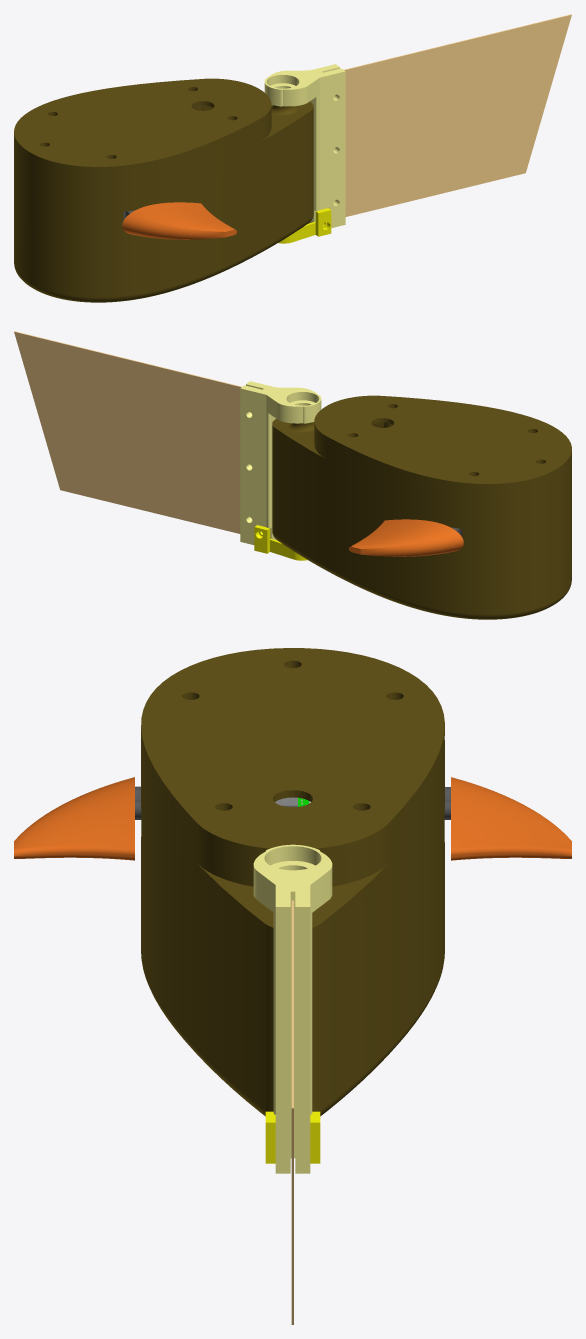
File: Fish_changed.glb
The picture shows the model from 3 angles, top to bottom: view 1: azimuth 30°, elevation 25°; view 2: azimuth 150°, elevation 25°; view 3: azimuth 270°, elevation 25°; orthographic projection. The views are drawn at different scales.
Parts seen in each view (by area): view 1: shell_curve_Servo2-1, Tail_cross-1, C_lid_switch_2holes-1, Cont_shell_curve_servo_tail4-1, Side_fin-2, Cont_shell_curve_servo_horn_correct-1; view 2: shell_curve_Servo2-1, Tail_cross-1, C_lid_switch_2holes-1, Cont_shell_curve_servo_tail4-1, Side_fin-1, Cont_shell_curve_servo_horn_correct-1; view 3: shell_curve_Servo2-1, C_lid_switch_2holes-1, Cont_shell_curve_servo_tail4-1, Side_fin-2, Side_fin-1, Tail_cross-1, Cont_shell_curve_servo_horn_correct-1.
Part boxes in pixels (left/top/right/bottom): shell_curve_Servo2-1: left=14, top=102, right=313, bottom=302; Tail_cross-1: left=344, top=14, right=571, bottom=216; C_lid_switch_2holes-1: left=14, top=78, right=271, bottom=173; Cont_shell_curve_servo_tail4-1: left=264, top=64, right=345, bottom=228; Side_fin-2: left=122, top=202, right=236, bottom=239; Cont_shell_curve_servo_horn_correct-1: left=278, top=208, right=331, bottom=243; shell_curve_Servo2-1: left=272, top=419, right=571, bottom=619; Tail_cross-1: left=14, top=331, right=241, bottom=533; C_lid_switch_2holes-1: left=314, top=395, right=571, bottom=490; Cont_shell_curve_servo_tail4-1: left=240, top=381, right=321, bottom=544; Side_fin-1: left=348, top=519, right=463, bottom=556; Cont_shell_curve_servo_horn_correct-1: left=254, top=525, right=307, bottom=560; shell_curve_Servo2-1: left=141, top=739, right=444, bottom=1116; C_lid_switch_2holes-1: left=141, top=648, right=444, bottom=857; Cont_shell_curve_servo_tail4-1: left=253, top=844, right=332, bottom=1173; Side_fin-2: left=14, top=777, right=134, bottom=860; Side_fin-1: left=451, top=777, right=571, bottom=860; Tail_cross-1: left=291, top=900, right=293, bottom=1324; Cont_shell_curve_servo_horn_correct-1: left=265, top=1111, right=320, bottom=1163.
Size of the model in its own units: 0.272 by 0.0742 by 0.1385.
